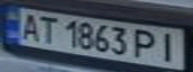1: (60, 17, 81, 48)
3: (109, 24, 133, 57)
6: (90, 21, 112, 54)
8: (75, 20, 96, 52)
A: (15, 10, 42, 42)
I: (154, 29, 184, 63)
P: (130, 27, 160, 61)
T: (36, 14, 60, 44)
